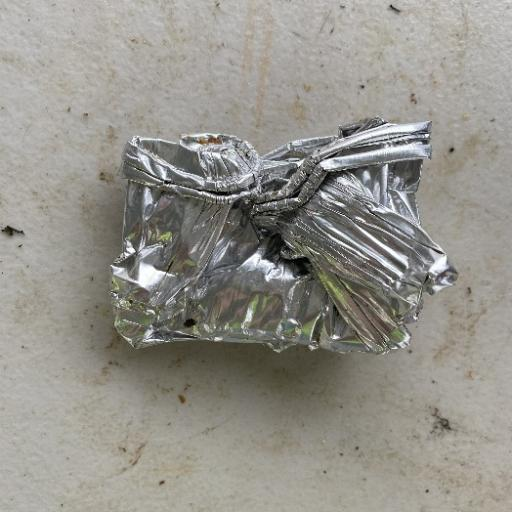Metal: (106, 115, 458, 357)
